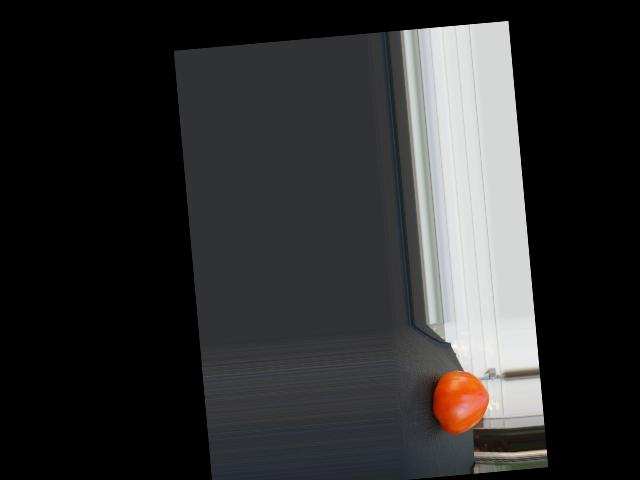tomato: (429, 367, 492, 435)
